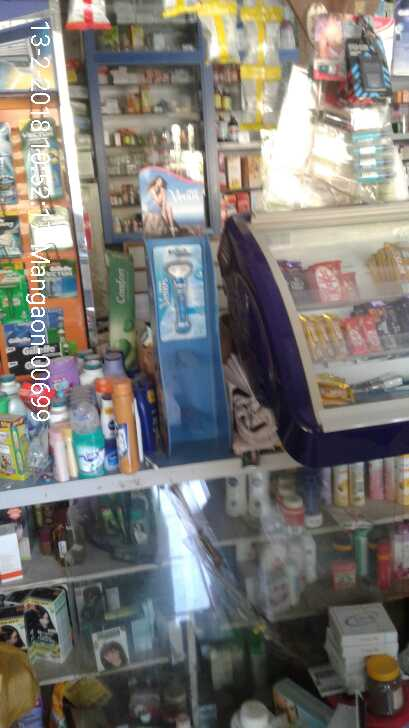venus: (149, 239, 211, 343)
